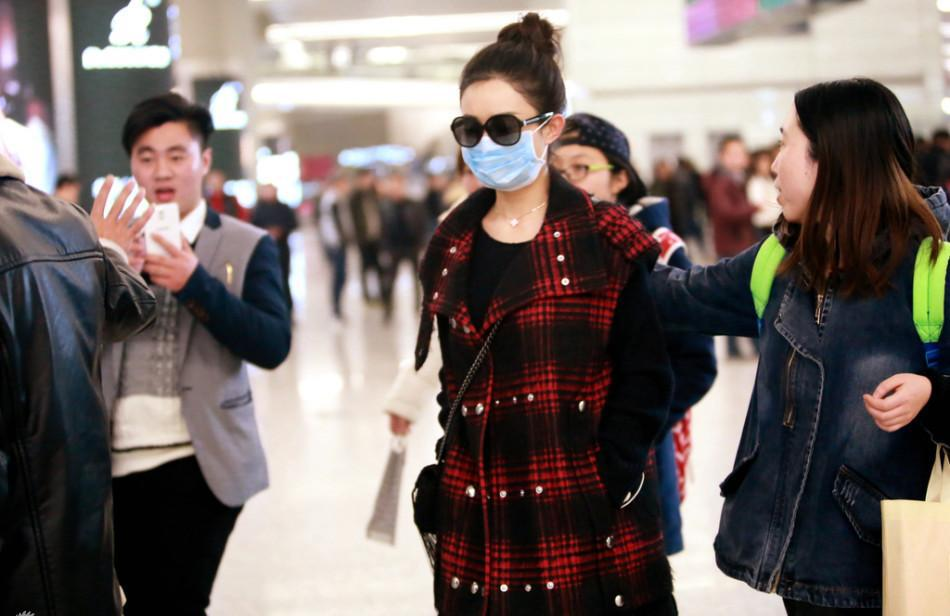NONE: (773, 131, 851, 220), (127, 141, 202, 216), (550, 155, 613, 214)
OK: (463, 105, 543, 192)
